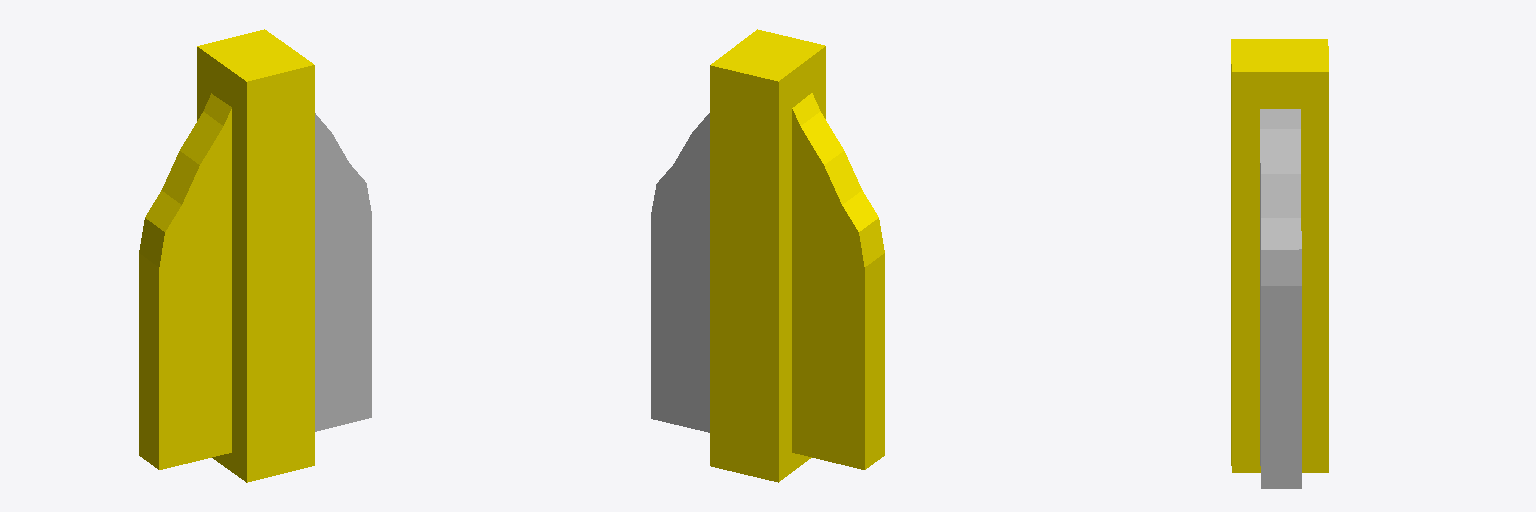
The picture shows the model from 3 angles: view 1: azimuth 30°, elevation 25°; view 2: azimuth 150°, elevation 25°; view 3: azimuth 270°, elevation 25°; orthographic projection.
Parts seen in each view (by area): view 1: Wing_L; view 2: Wing_L; view 3: Wing_L.
Part boxes in pixels (bbox=[...]): Wing_L: bbox=[139, 29, 371, 482]; Wing_L: bbox=[651, 29, 884, 482]; Wing_L: bbox=[1231, 39, 1328, 488].
Size of the model in its own units: 2.3 by 4.13 by 0.9178.
3 materials, 1 textured.